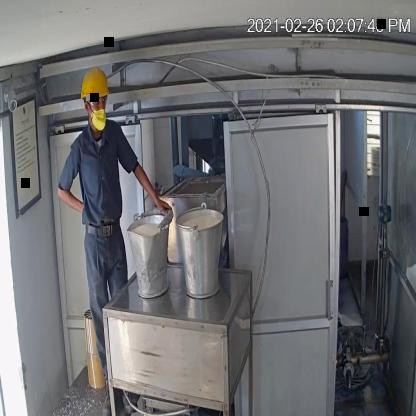helmet: (77, 63, 115, 102)
